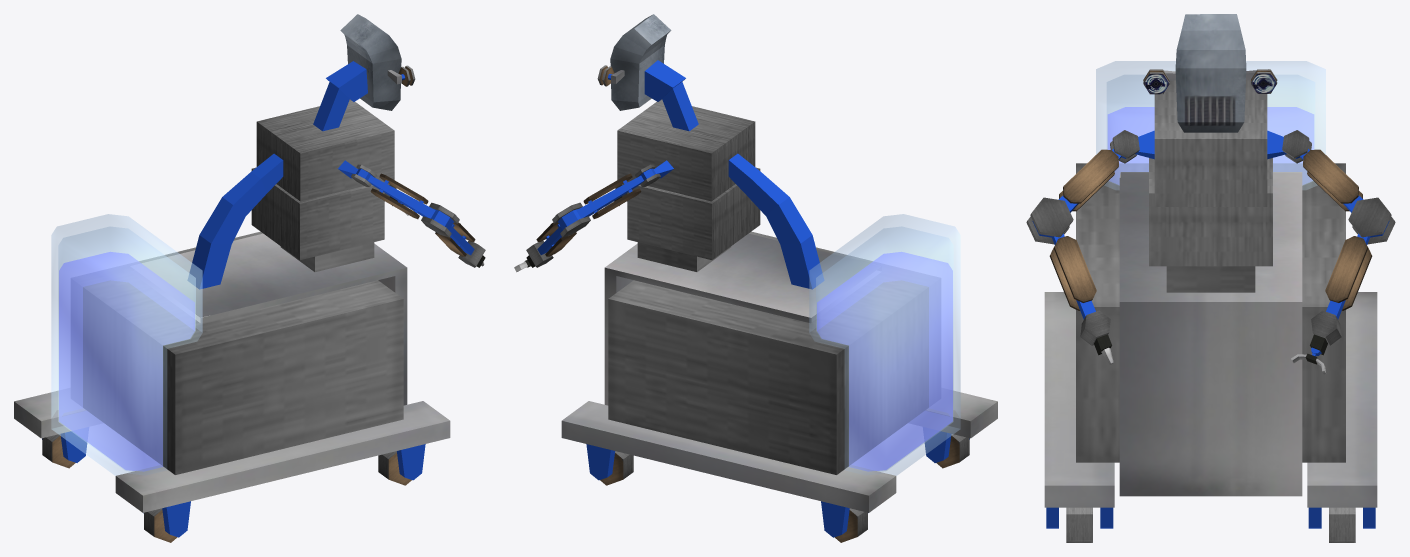
File: Robô Operário.fbx
The picture shows the model from 3 angles, left to right: view 1: azimuth 30°, elevation 25°; view 2: azimuth 150°, elevation 25°; view 3: azimuth 270°, elevation 25°; orthographic projection. The views are drawn at different scales.
Parts seen in each view (by area): view 1: Cube.001; view 2: Cube.001; view 3: Cube.001.
Boxes of the visible parts, bbox=[...] form: Cube.001: bbox=[14, 14, 485, 542]; Cube.001: bbox=[514, 14, 997, 542]; Cube.001: bbox=[1026, 14, 1395, 542].
Bounding box in the file's own units: 388 × 413 × 256.
